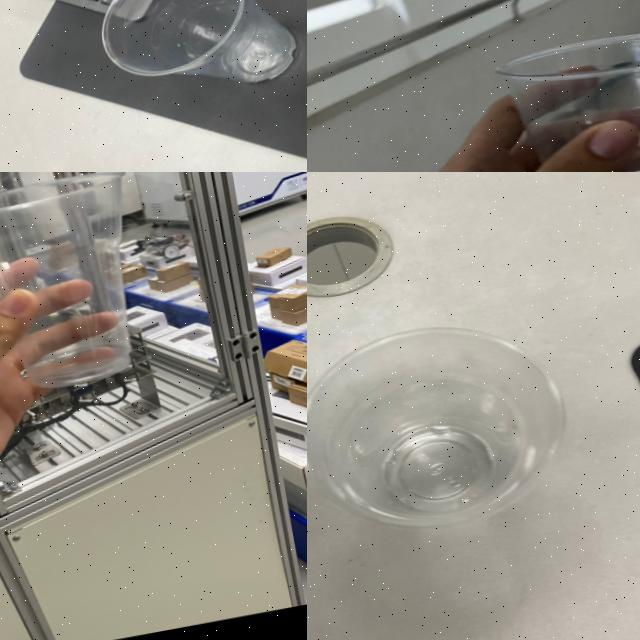glass: (307, 293, 597, 562), (0, 172, 167, 406), (472, 0, 640, 172), (79, 0, 307, 111)
